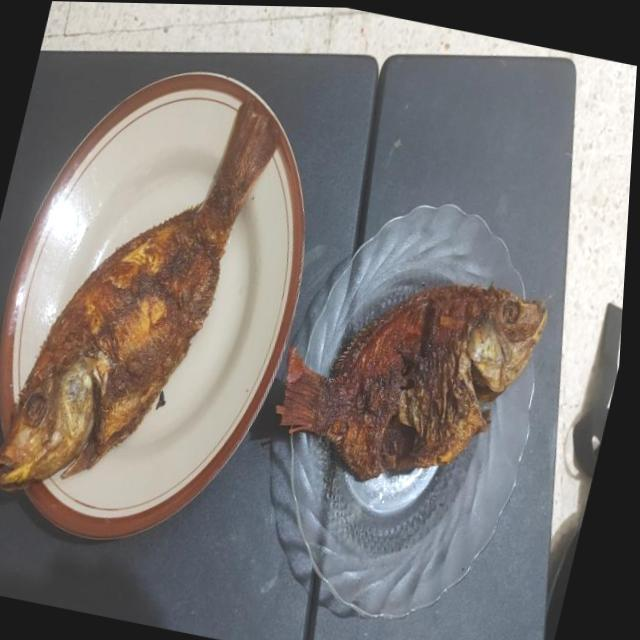ikan_mujair: (0, 96, 285, 489), (276, 282, 546, 480)
